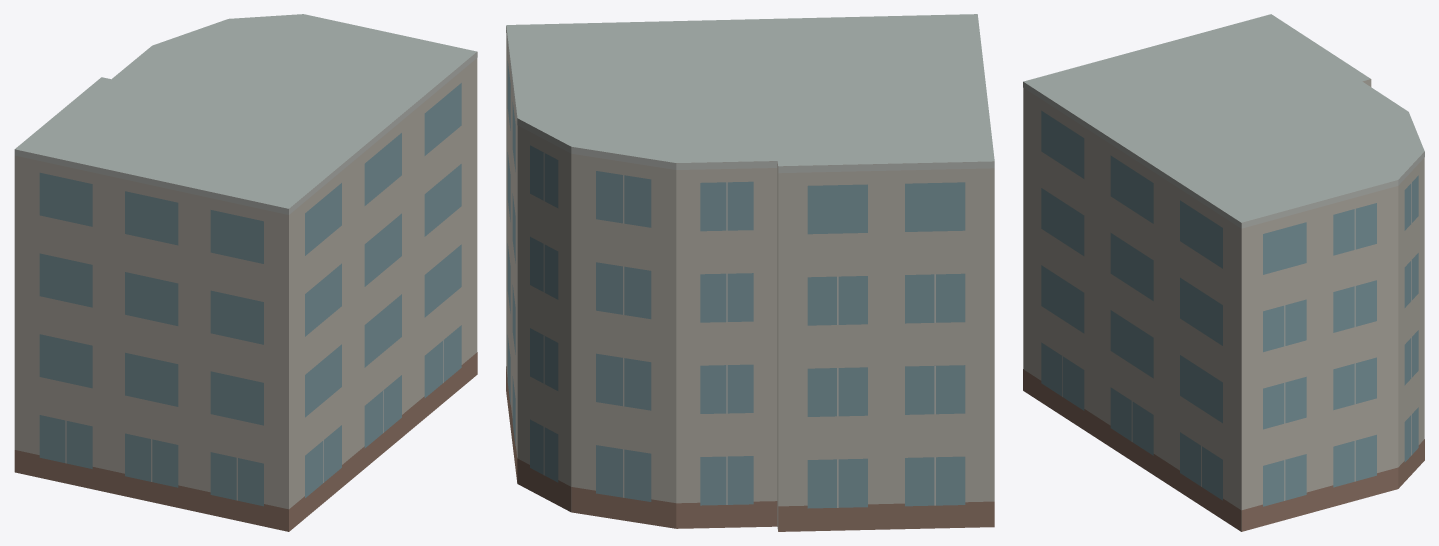
File: survey-upis-32990404.glb
3 renders of one model, left to right at view 1: azimuth 30°, elevation 25°; view 2: azimuth 150°, elevation 25°; view 3: azimuth 270°, elevation 25°, orthographic. The views are drawn at different scales.
Parts seen in each view (by area): view 1: survey-upis-32990404.tmp; view 2: survey-upis-32990404.tmp; view 3: survey-upis-32990404.tmp.
Part boxes in pixels (box(x1,y1,x2,y2)): survey-upis-32990404.tmp: box(14, 14, 477, 531); survey-upis-32990404.tmp: box(506, 14, 994, 531); survey-upis-32990404.tmp: box(1023, 14, 1424, 531).
Size of the model in its own units: 18.48 by 12.75 by 15.02.
